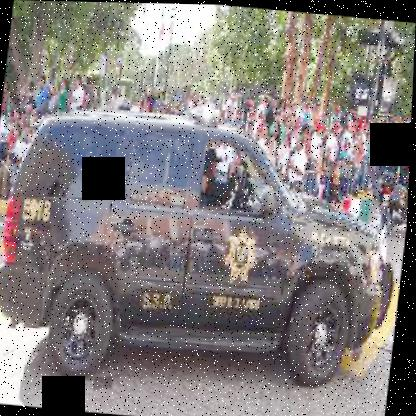emergency: (0, 92, 409, 403)
